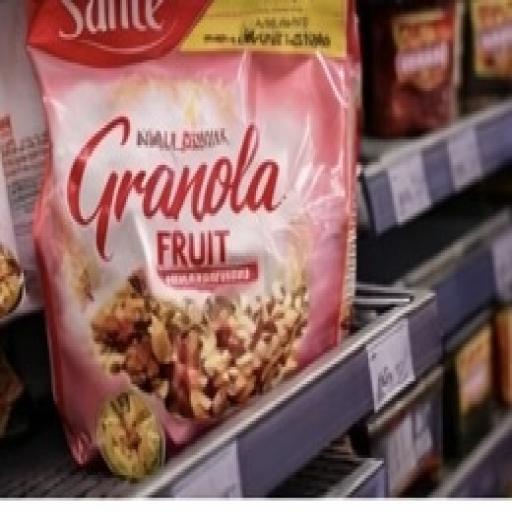granola: (20, 0, 364, 481)
